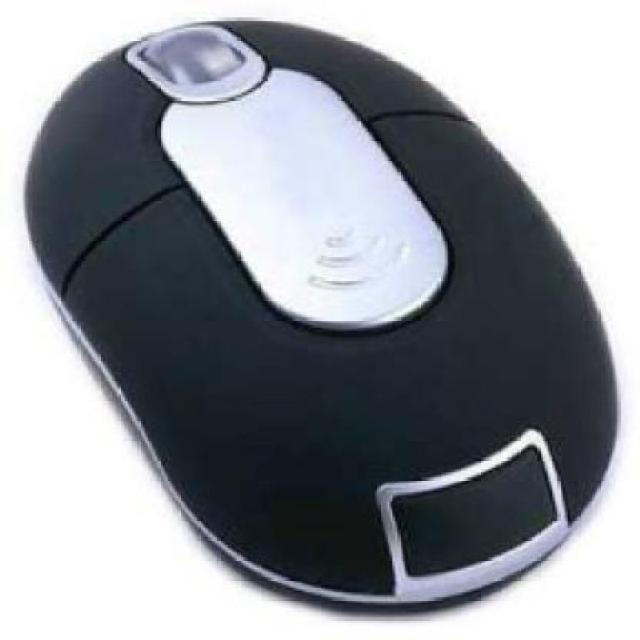mause: (12, 2, 637, 638)
